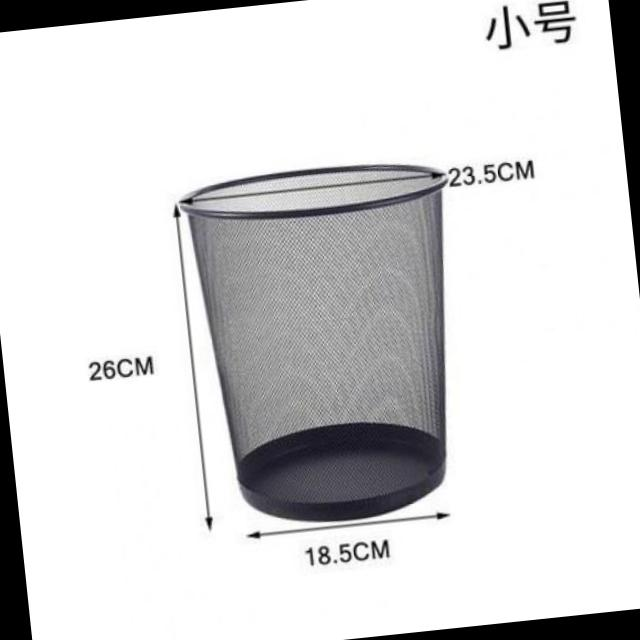dustbin: (176, 149, 478, 539)
